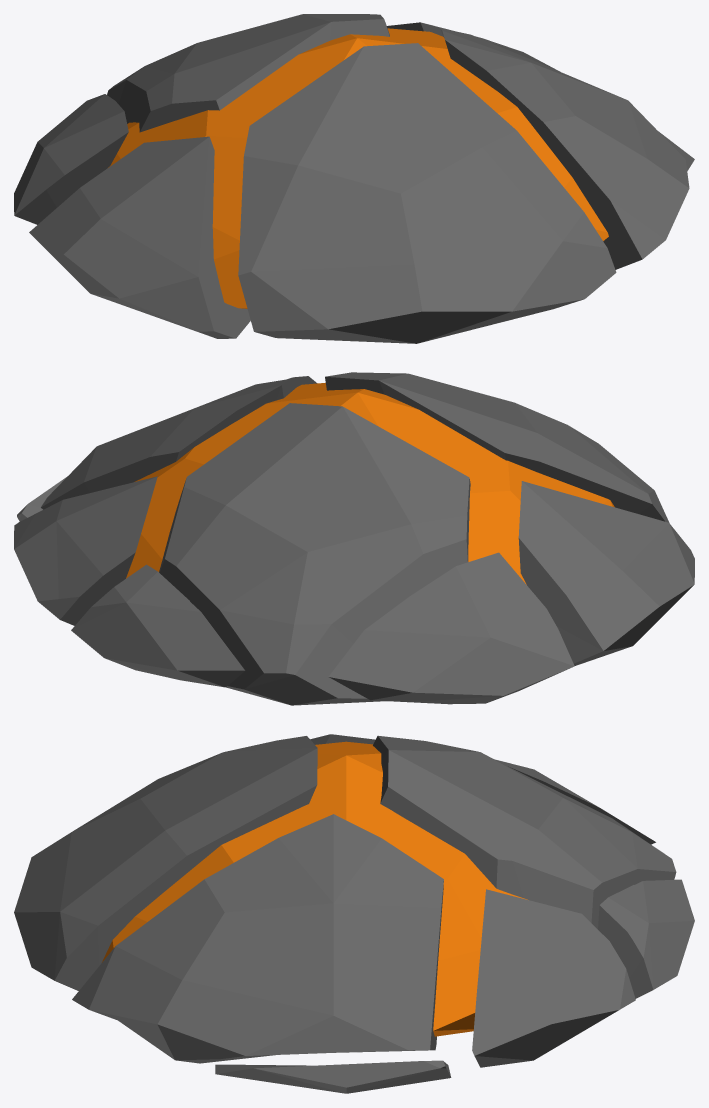
Rendered from AsteroidPoint_Optimized.fbx.
3 renders of one model, top to bottom at view 1: azimuth 30°, elevation 25°; view 2: azimuth 150°, elevation 25°; view 3: azimuth 270°, elevation 25°, orthographic. The views are drawn at different scales.
Parts seen in each view (by area): view 1: Icosphere_cell.012, Icosphere_cell.010, Icosphere_cell.015, Core.002, Icosphere_cell.002, Icosphere_cell.013, Icosphere_cell.011; view 2: Icosphere_cell.002, Icosphere_cell.013, Icosphere_cell.010, Core.002, Icosphere_cell.012, Icosphere_cell.011, Icosphere_cell.014, Icosphere_cell.015; view 3: Icosphere_cell.015, Icosphere_cell.012, Icosphere_cell.002, Icosphere_cell.011, Core.002, Icosphere_cell.014, Icosphere_cell.005, Icosphere_cell.013.
Part boxes in pixels (x1,y1,x2,y2): Icosphere_cell.012: (238, 43, 616, 343); Icosphere_cell.010: (29, 136, 250, 338); Icosphere_cell.015: (440, 28, 689, 269); Core.002: (108, 28, 608, 308); Icosphere_cell.002: (107, 14, 389, 132); Icosphere_cell.013: (14, 94, 128, 224); Icosphere_cell.011: (387, 22, 559, 71); Icosphere_cell.002: (159, 403, 470, 705); Icosphere_cell.013: (328, 552, 574, 704); Icosphere_cell.010: (518, 481, 694, 665); Core.002: (126, 383, 614, 584); Icosphere_cell.012: (325, 372, 669, 522); Icosphere_cell.011: (14, 476, 157, 625); Icosphere_cell.014: (71, 564, 245, 687); Icosphere_cell.015: (41, 376, 317, 509); Icosphere_cell.015: (72, 814, 443, 1063); Icosphere_cell.012: (14, 736, 317, 990); Icosphere_cell.002: (373, 735, 676, 929); Icosphere_cell.011: (472, 889, 635, 1067); Core.002: (102, 741, 527, 1036); Icosphere_cell.014: (598, 879, 694, 998); Icosphere_cell.005: (215, 1060, 451, 1093); Icosphere_cell.013: (494, 759, 655, 844).
Size of the model in its own units: 2.07 by 0.7013 by 1.97.
